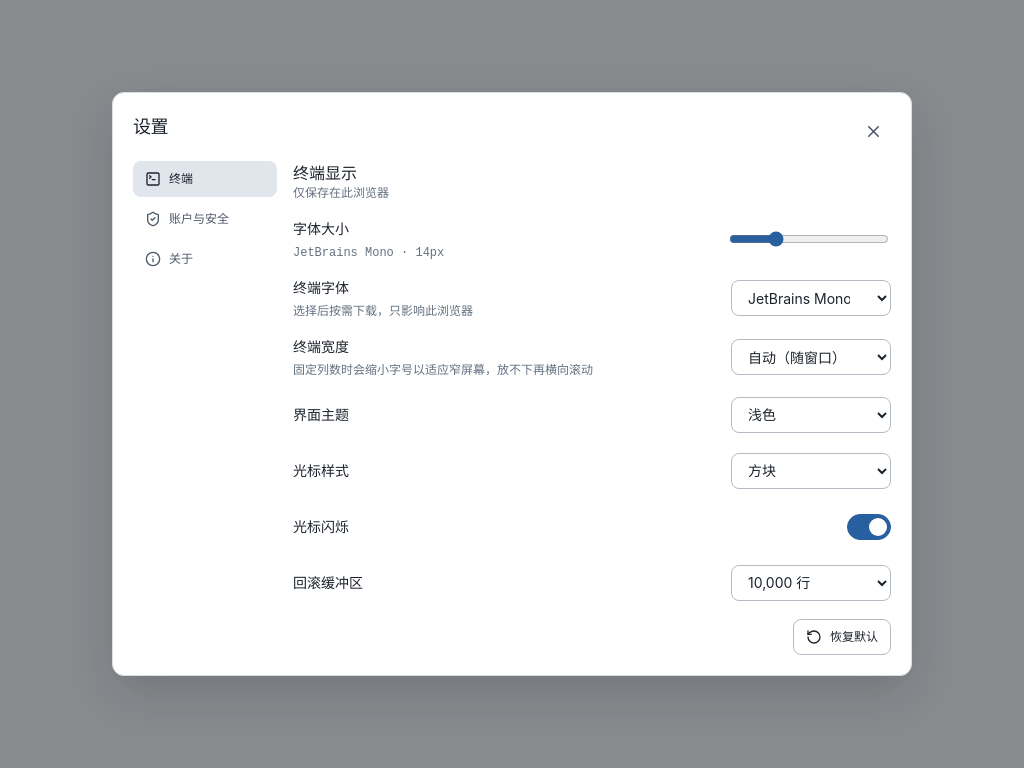
Test: SettingsDialog behavior › requires confirmation before logout and exposes progress
Click the button "账户与安全".
click(205, 219)  # box x1=133 y1=201 x2=277 y2=237
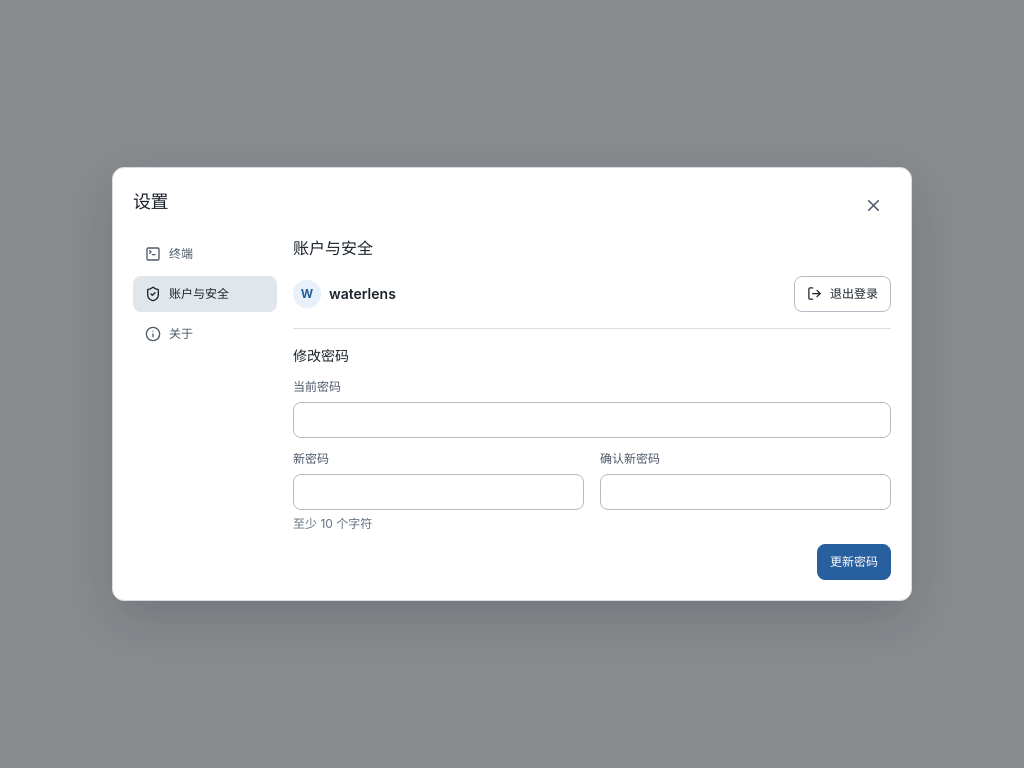
Click the button "退出登录".
click(842, 294)  # box x1=794 y1=276 x2=891 y2=312
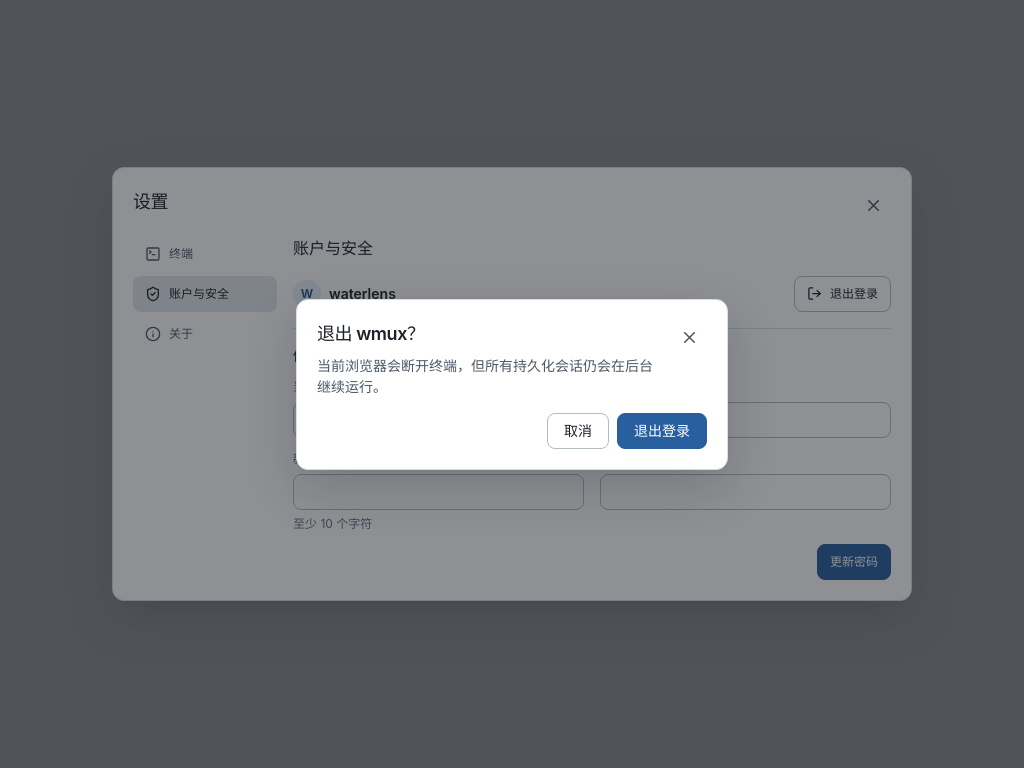
Expected: the text "当前浏览器会断开终端，但所有持久化会话仍会在后台继续运行。" is shown, x1=317 y1=354 x2=659 y2=396
Click the button "退出登录".
click(662, 430)  # box x1=617 y1=412 x2=707 y2=448
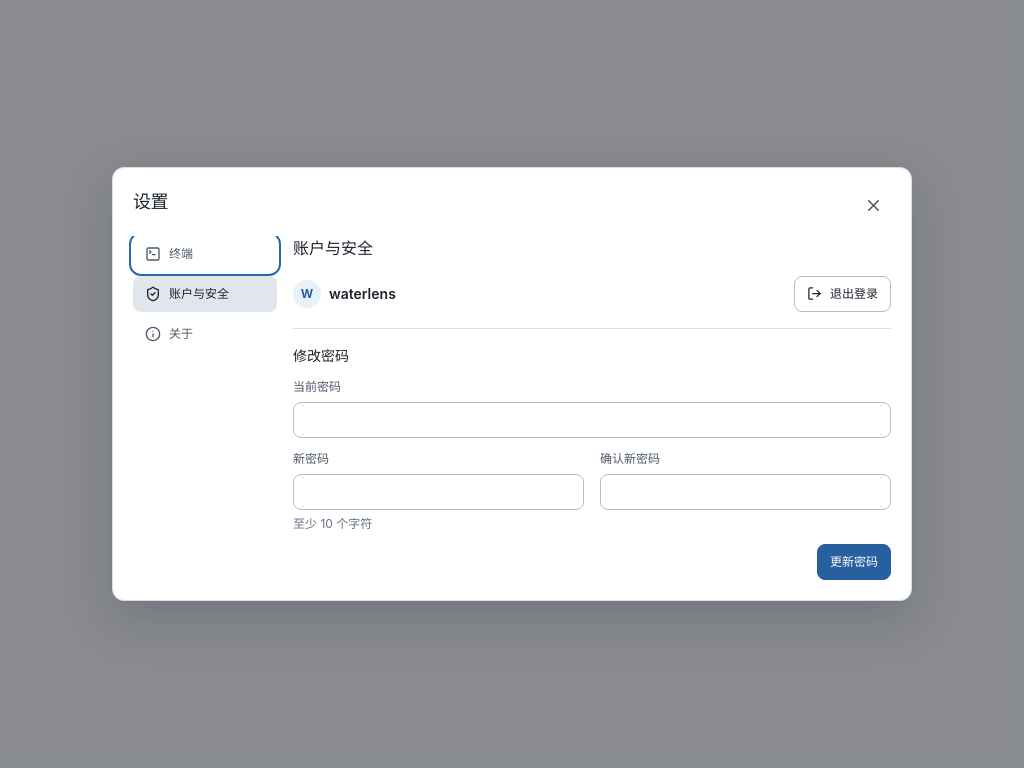
Expected: the heading "退出 wmux？" is gone
